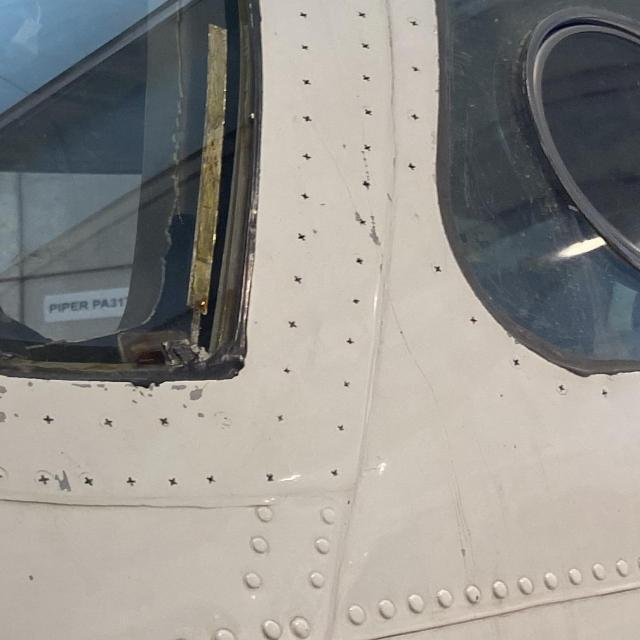Paint-off: (362, 214, 387, 246), (55, 471, 72, 493), (190, 387, 204, 402), (76, 383, 96, 392), (25, 381, 43, 389), (0, 411, 8, 425), (0, 386, 9, 397)
